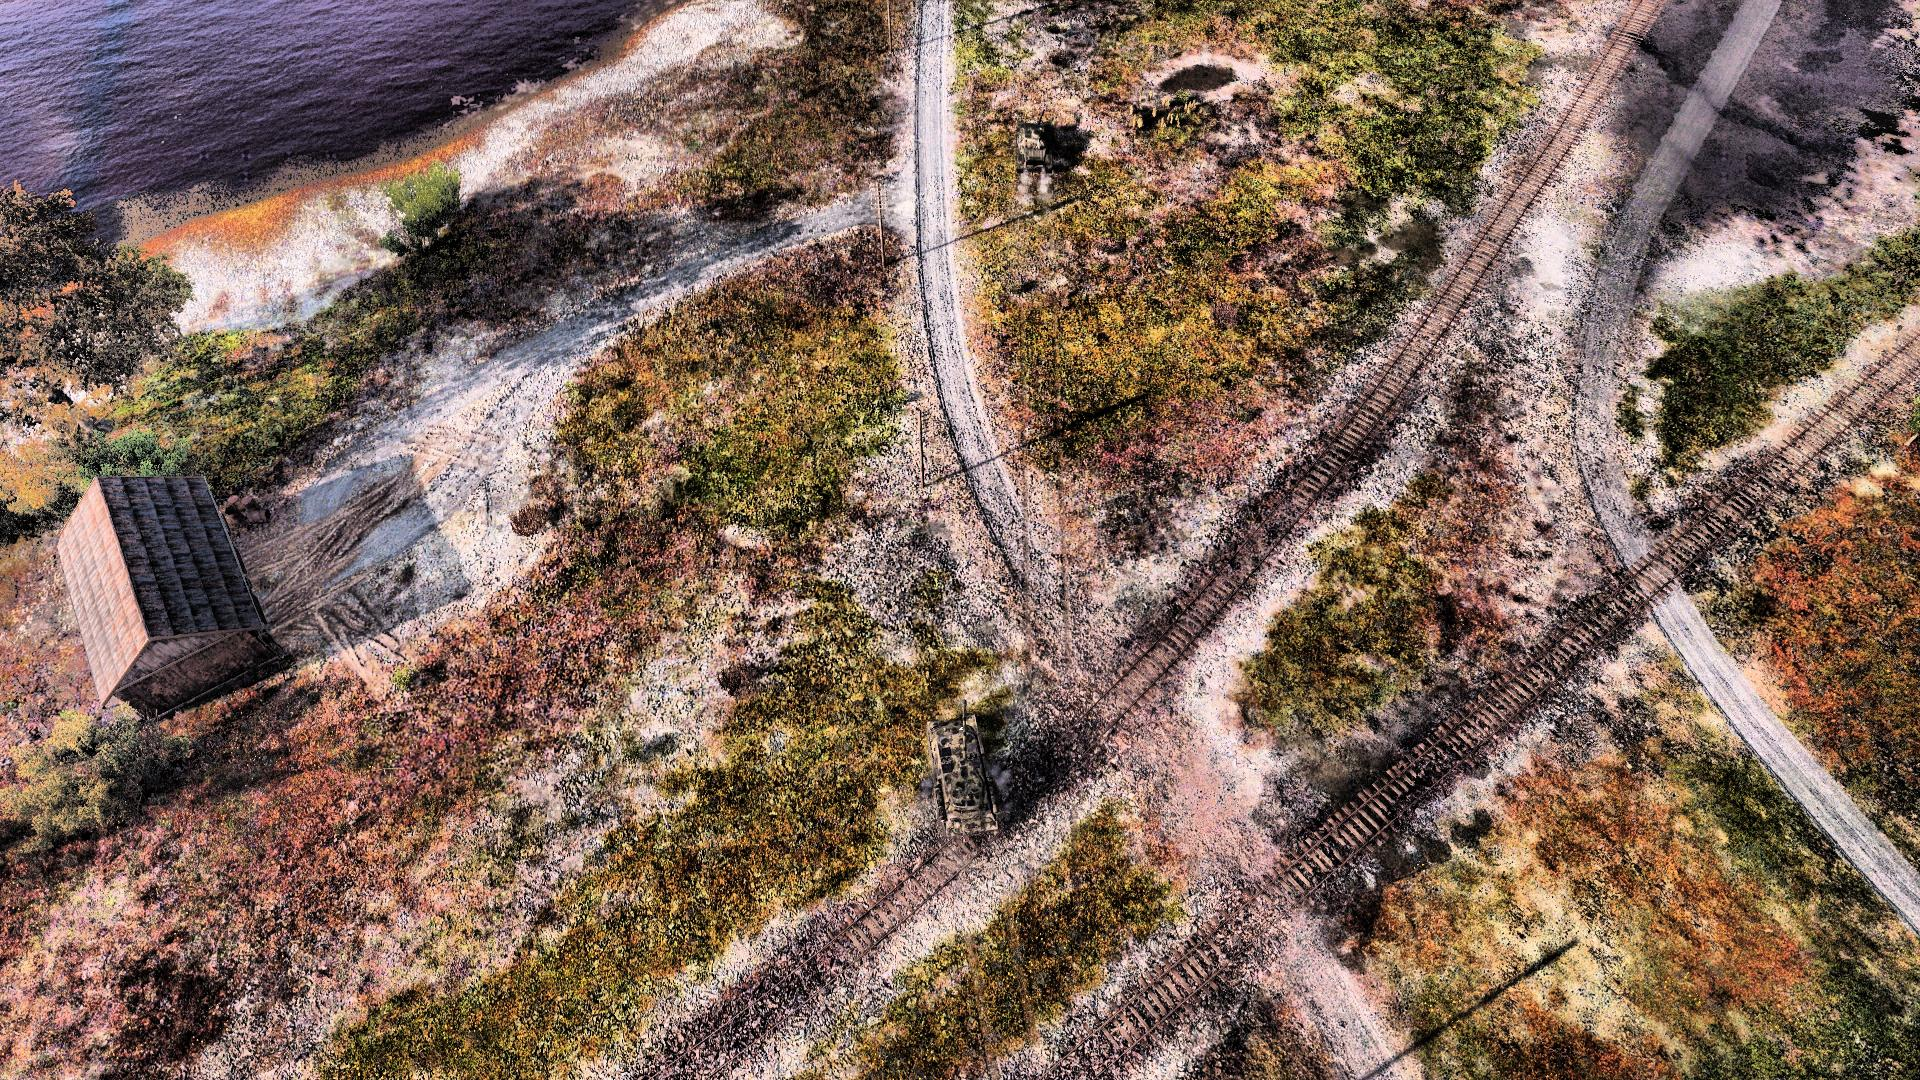military-vehicle: (928, 698, 1000, 836), (1013, 108, 1054, 177)
